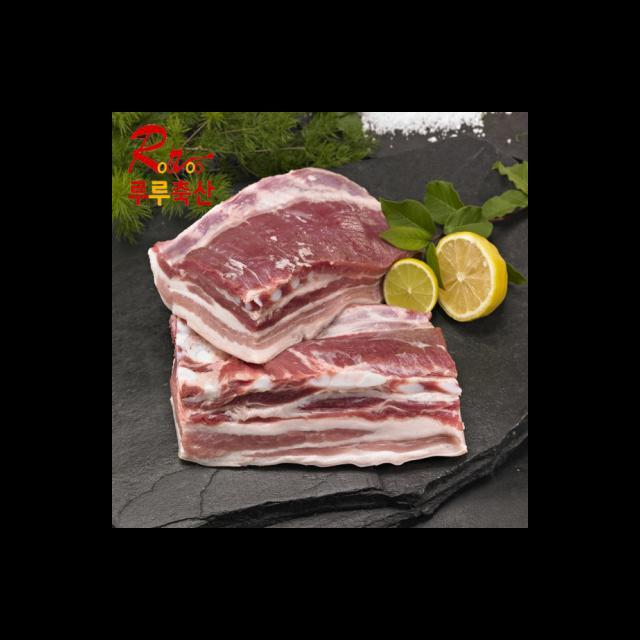pork: (154, 165, 468, 468)
